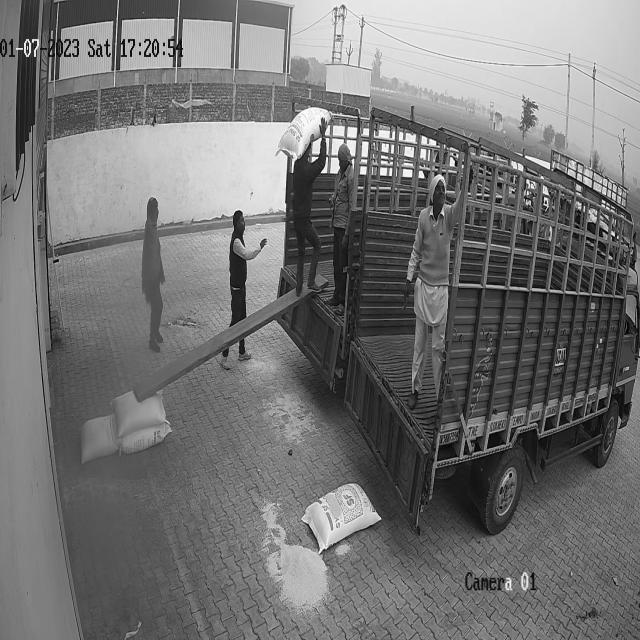sack: (302, 482, 380, 553), (275, 106, 330, 172), (109, 390, 166, 438), (79, 413, 119, 461), (121, 422, 172, 454)
